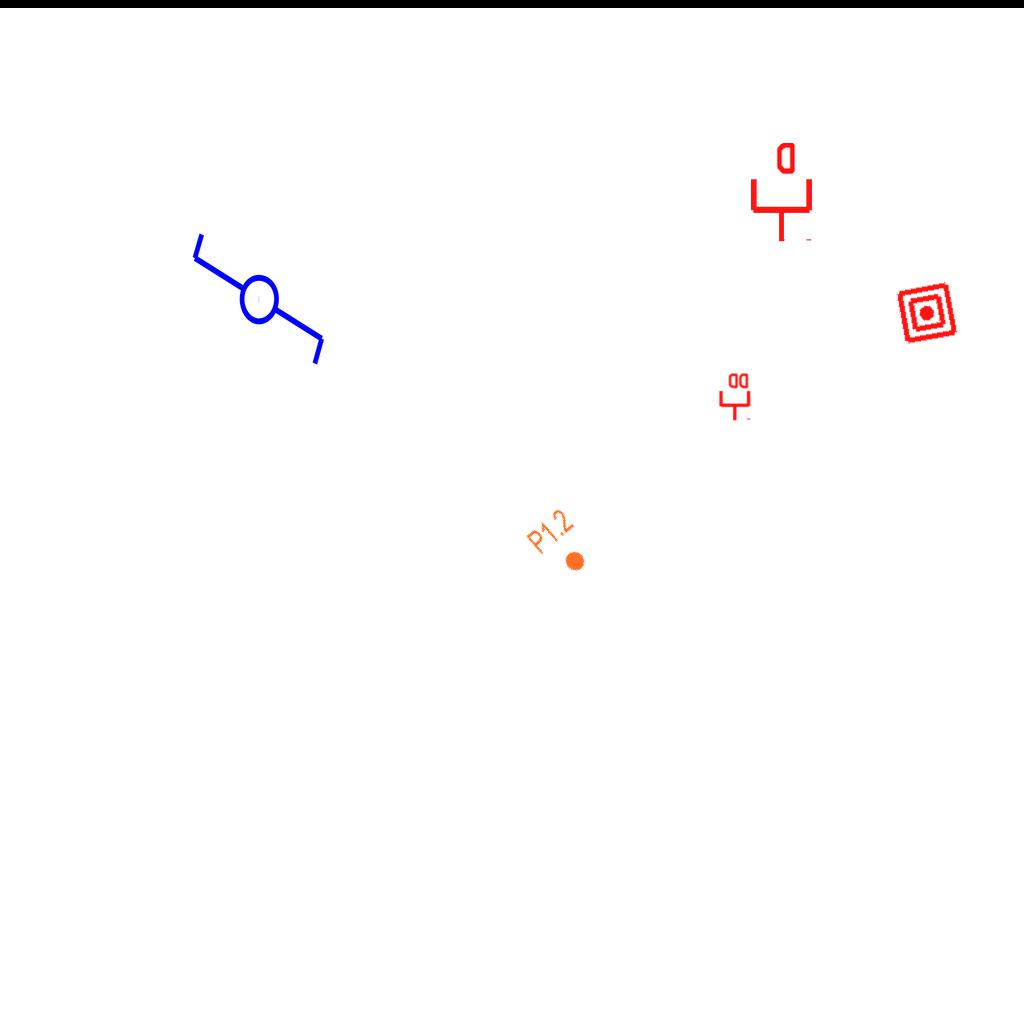Datenanschluss_einfach: (747, 143, 816, 243)
Datenanschluss_zweifach: (717, 371, 751, 422)
Downlight_LED_Einbauleuchten_Flur: (523, 505, 601, 585)
NAM-Nichtautomatischer_Melder: (894, 280, 960, 346)
Wechselschalter: (185, 229, 329, 386)
